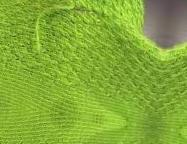snag: (33, 4, 77, 53)
